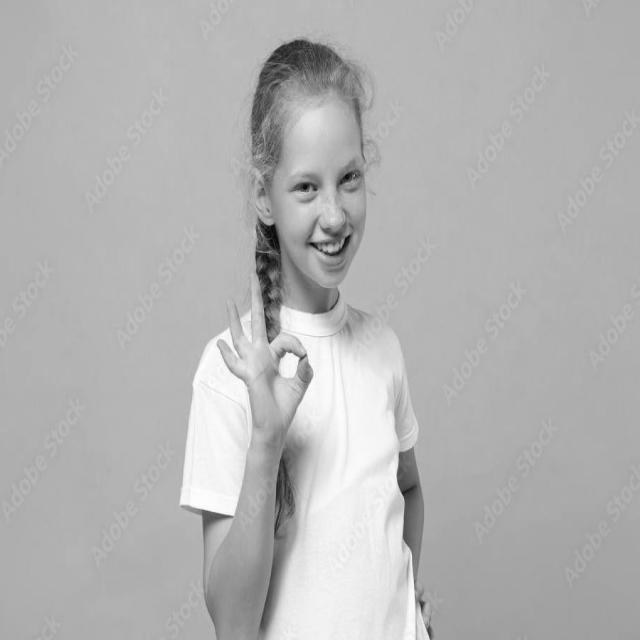perfect: (213, 264, 316, 453)
